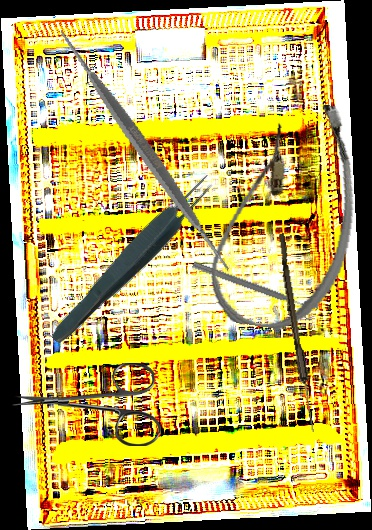Cannula: (201, 90, 371, 339)
Fixation Ring: (188, 258, 320, 323)
Iris Scissors: (11, 360, 162, 447)
Spatula Surgical: (7, 13, 282, 290)
Surgical Spoon: (274, 233, 319, 433)
Tissue Forceps: (44, 167, 223, 352)
